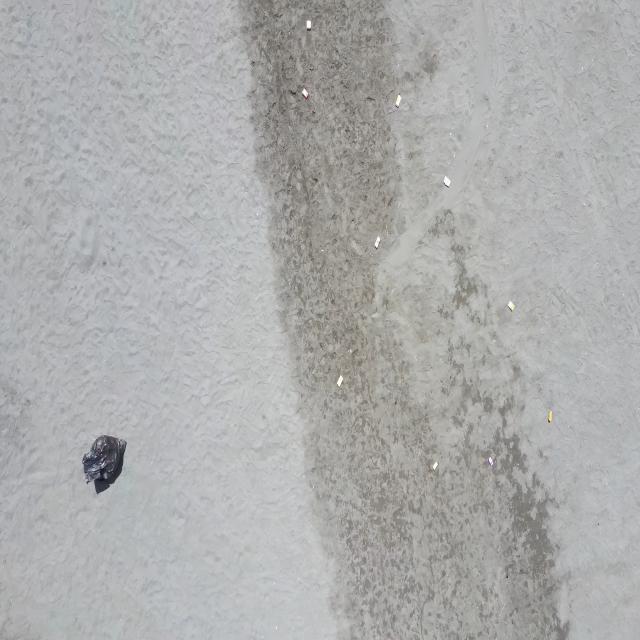Garbage: (81, 435, 125, 482), (507, 300, 515, 311), (443, 175, 449, 187), (373, 237, 380, 247), (336, 375, 342, 386), (431, 460, 437, 471), (547, 409, 552, 422), (301, 88, 307, 98), (395, 95, 400, 107), (487, 455, 492, 466), (306, 20, 310, 30)
